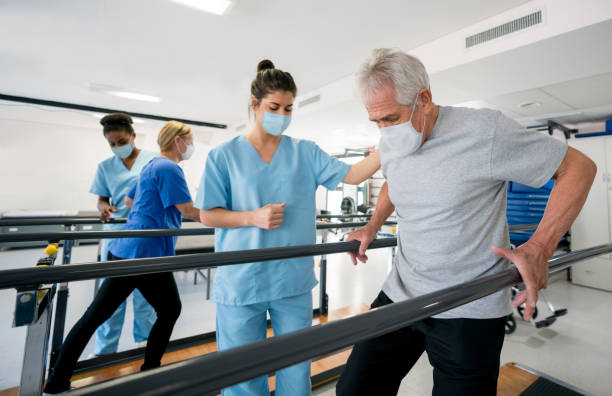with mask: (353, 59, 435, 158), (242, 62, 312, 138), (97, 115, 141, 162), (158, 119, 202, 166)
